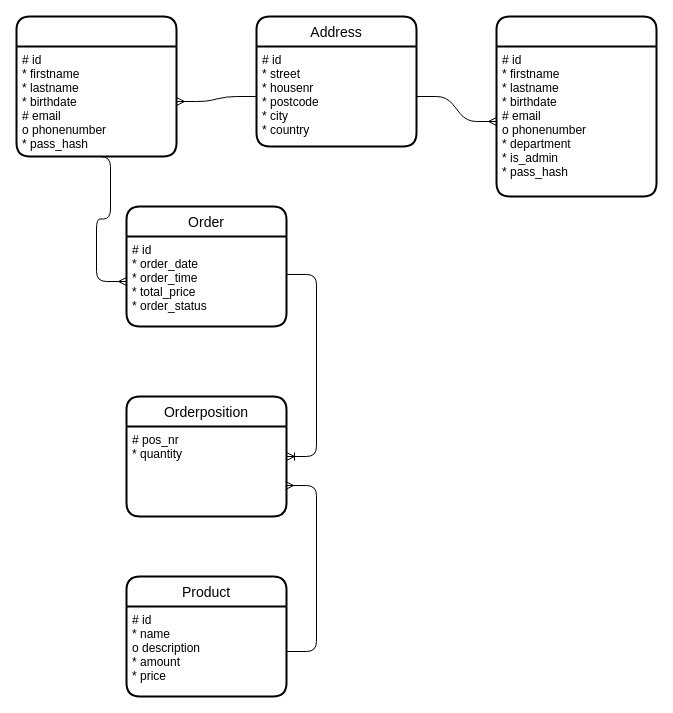
Some shapes in this 673 by 713 pixel diagram are drawn without their labels. Each missing label, with the box of its shape:
Customer: (15, 15, 177, 157)
Employee: (495, 15, 657, 197)
